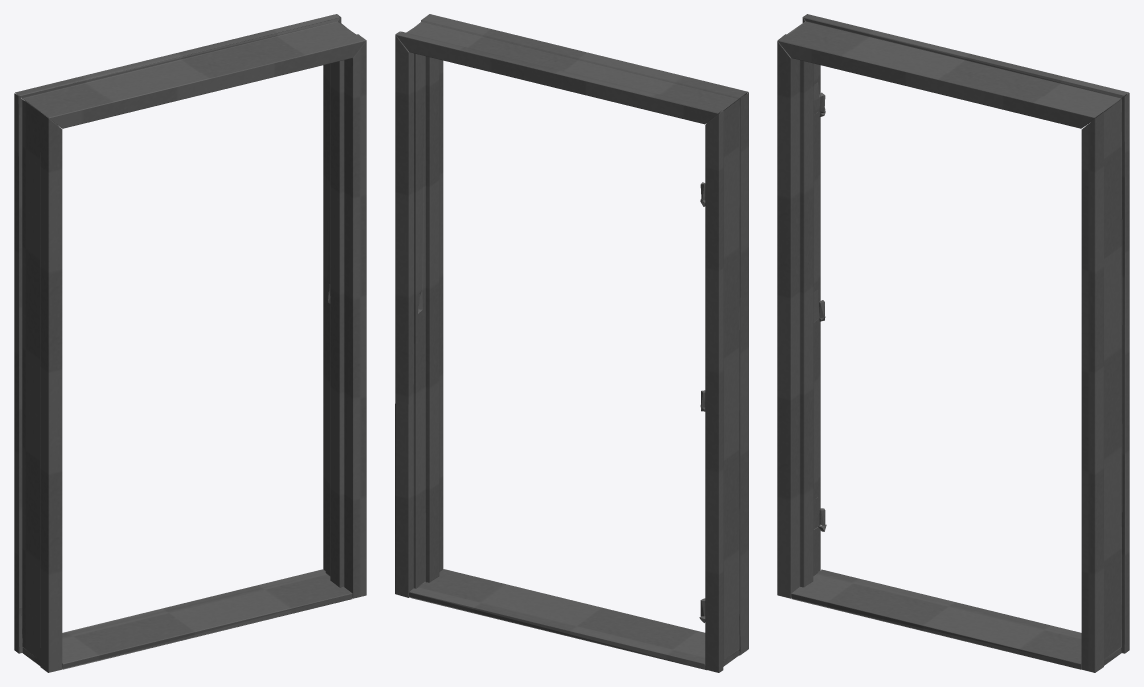
The model's file is SM_FrontDoor_A_Frame.glb.
3 renders of one model, left to right at view 1: azimuth 30°, elevation 25°; view 2: azimuth 150°, elevation 25°; view 3: azimuth 330°, elevation 25°, orthographic.
Visible parts, largest first — view 1: SM_FrontDoor_A_Frame; view 2: SM_FrontDoor_A_Frame; view 3: SM_FrontDoor_A_Frame.
Part boxes in pixels (box(x1,y1,x2,y2)): SM_FrontDoor_A_Frame: box(14, 14, 366, 672); SM_FrontDoor_A_Frame: box(395, 14, 748, 672); SM_FrontDoor_A_Frame: box(777, 14, 1129, 672).
Size of the model in its own units: 139 by 230 by 24.38.
1 material, 1 textured.
